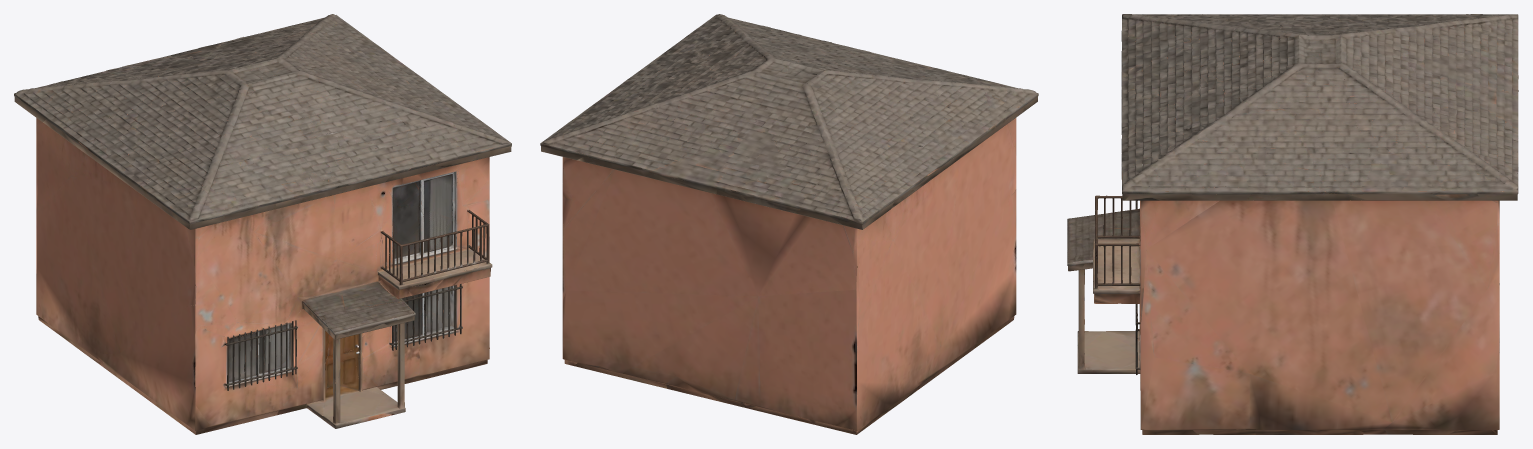
The model's file is house-02-two-story.glb.
The picture shows the model from 3 angles, left to right: view 1: azimuth 30°, elevation 25°; view 2: azimuth 150°, elevation 25°; view 3: azimuth 270°, elevation 25°; orthographic projection. The views are drawn at different scales.
Visible parts, largest first — view 1: geometry_0; view 2: geometry_0; view 3: geometry_0.
Part boxes in pixels (x1=…): geometry_0: x1=14, y1=14, x2=511, y2=434; geometry_0: x1=540, y1=14, x2=1038, y2=434; geometry_0: x1=1067, y1=14, x2=1518, y2=434.
Bounding box in the file's own units: 1.75 × 1.41 × 1.88.
Materials: 1 (1 with a texture image).
